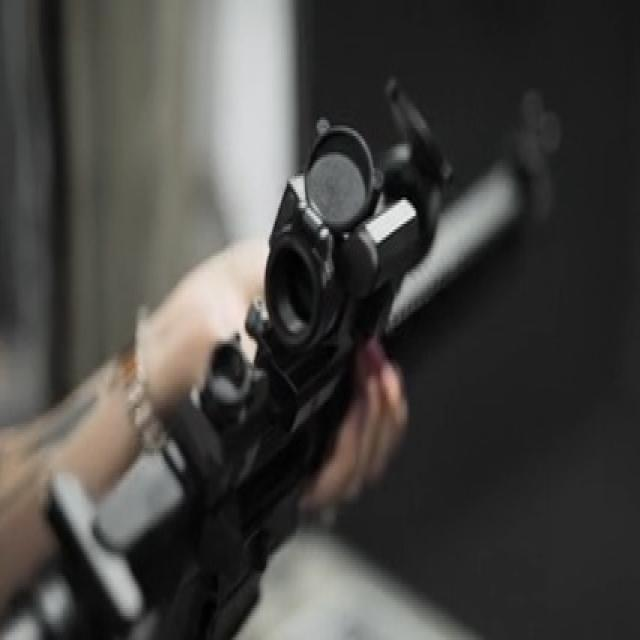Gun_Holder: (64, 119, 585, 637)
